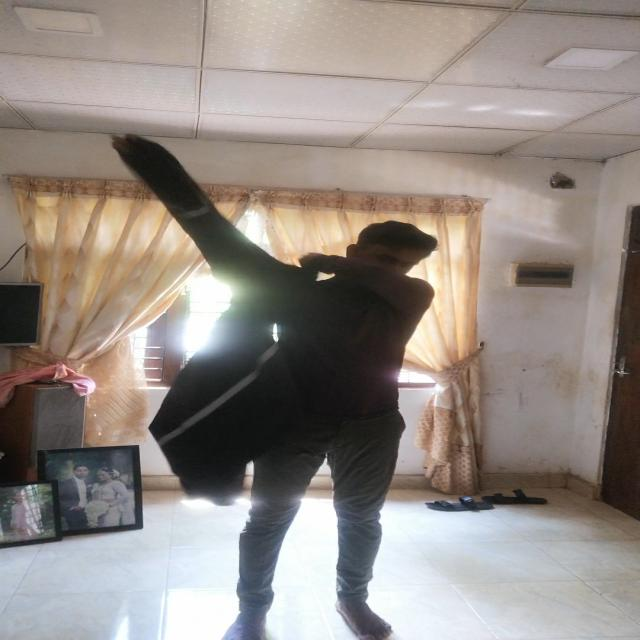Person: (260, 198, 432, 640)
